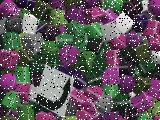Left: (35, 64, 75, 118)
